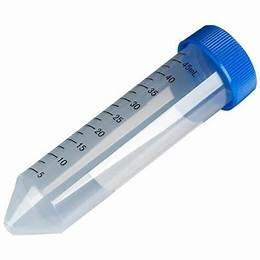Test tube: (8, 28, 252, 233)
